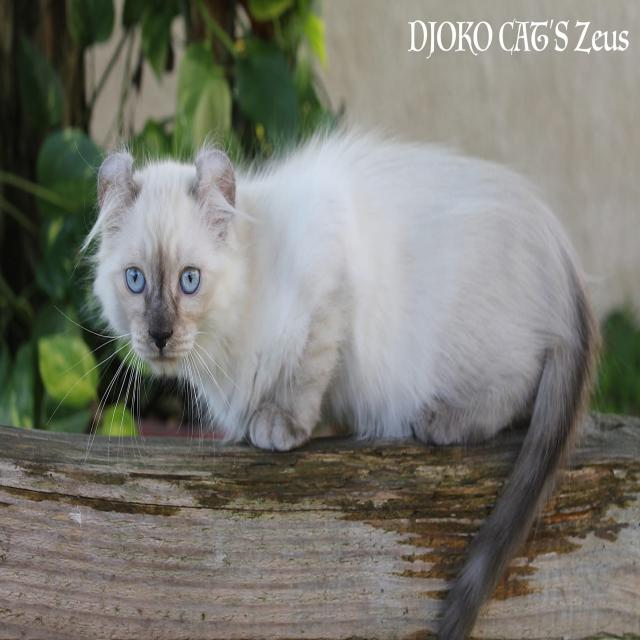American Curl: (85, 122, 600, 640)
